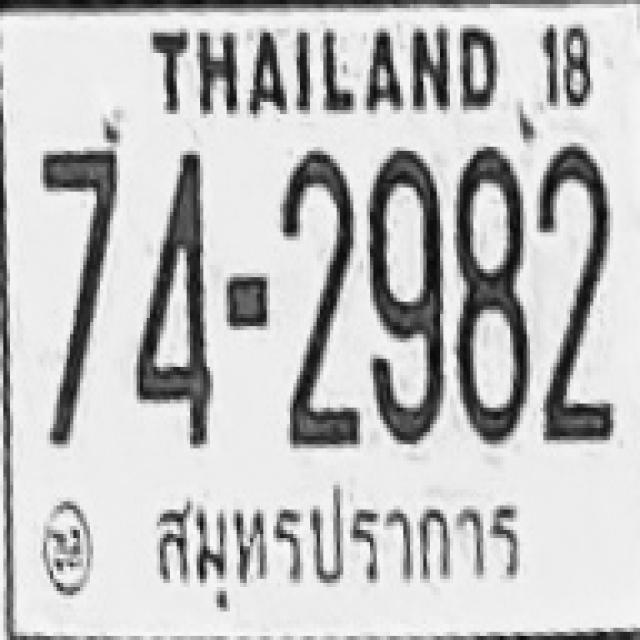0: (367, 147, 443, 334)
2: (542, 218, 612, 438)
4: (133, 149, 210, 446)
7: (42, 147, 118, 334), (42, 147, 118, 314)
8: (455, 143, 528, 444)
9: (367, 172, 443, 444), (367, 202, 443, 446)
SamutPrakan: (137, 476, 550, 616)
